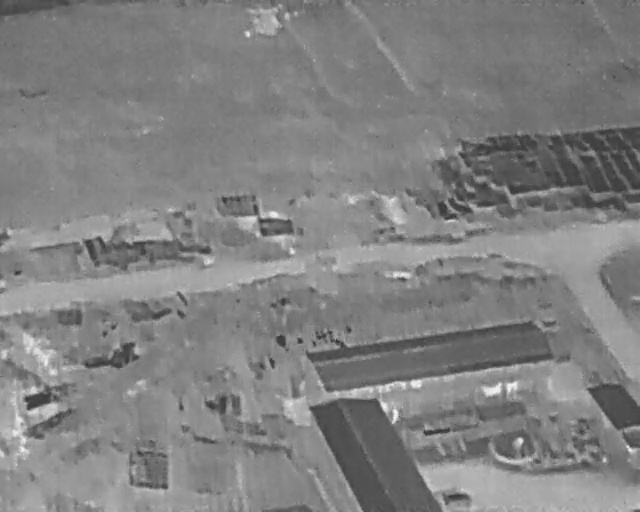Car: (431, 488, 473, 509)
Person: (391, 405, 400, 425)
